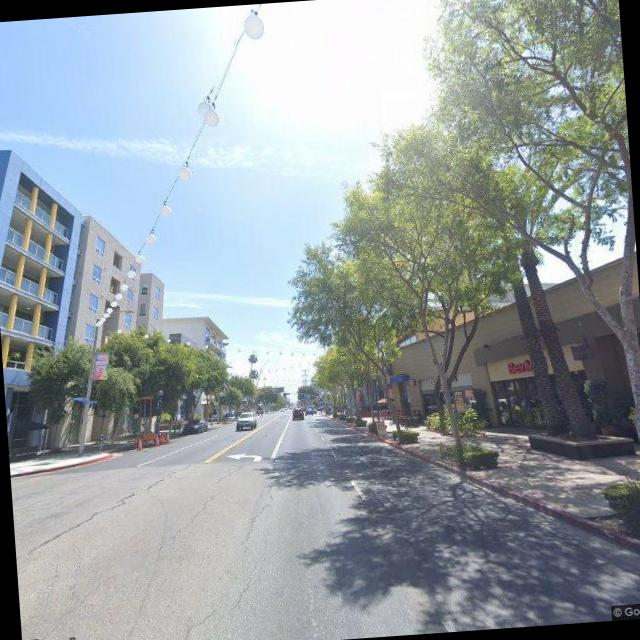pothole: (12, 461, 190, 558), (156, 464, 243, 552), (168, 573, 265, 640), (233, 478, 280, 554)
